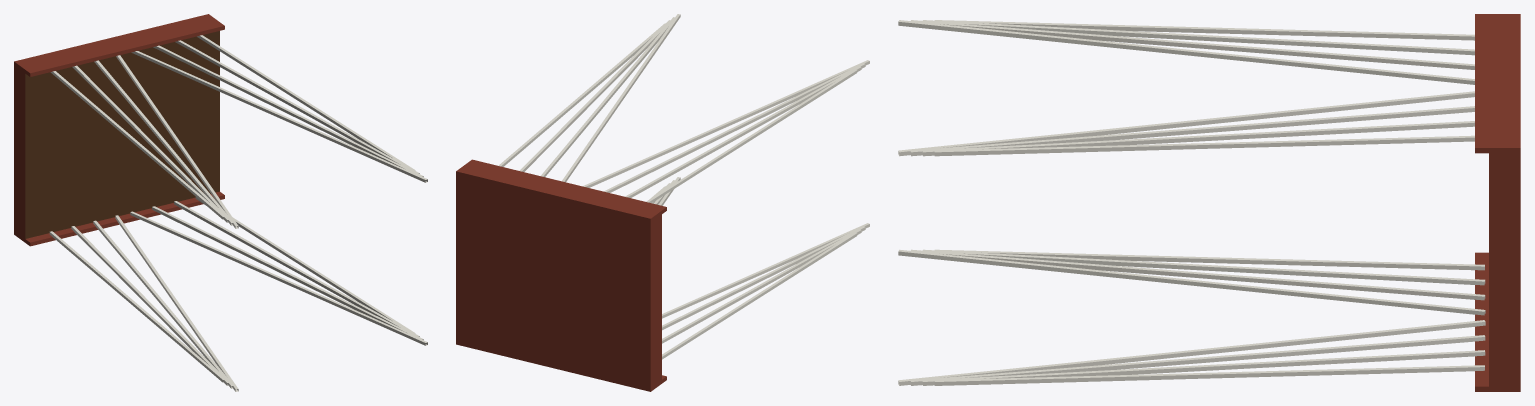
The model's file is middle_odd.glb.
The picture shows the model from 3 angles, left to right: view 1: azimuth 30°, elevation 25°; view 2: azimuth 150°, elevation 25°; view 3: azimuth 270°, elevation 25°; orthographic projection. The views are drawn at different scales.
Visible parts, largest first — view 1: bridge_04_middle_odd; view 2: bridge_04_middle_odd; view 3: bridge_04_middle_odd.
Boxes of the visible parts, x1=… form: bridge_04_middle_odd: x1=14, y1=14, x2=427, y2=391; bridge_04_middle_odd: x1=456, y1=14, x2=869, y2=391; bridge_04_middle_odd: x1=898, y1=14, x2=1520, y2=391.
Size of the model in its own units: 16 by 13.6 by 31.43.
